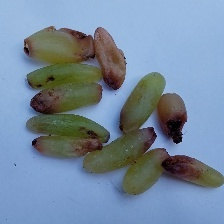grapes: (17, 23, 180, 219)
